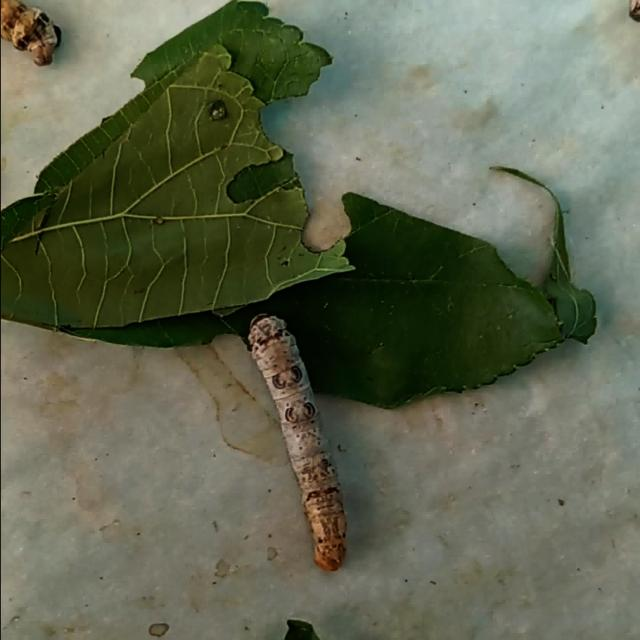Grasserie: (226, 282, 397, 606)
